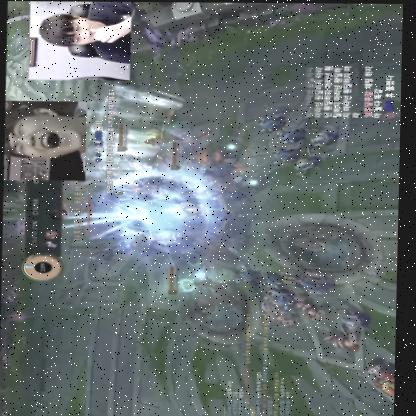donation: (5, 87, 116, 193)
streamer: (38, 0, 132, 63)
